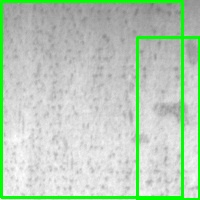pitted_surface: (1, 1, 182, 197), (137, 37, 199, 199)
